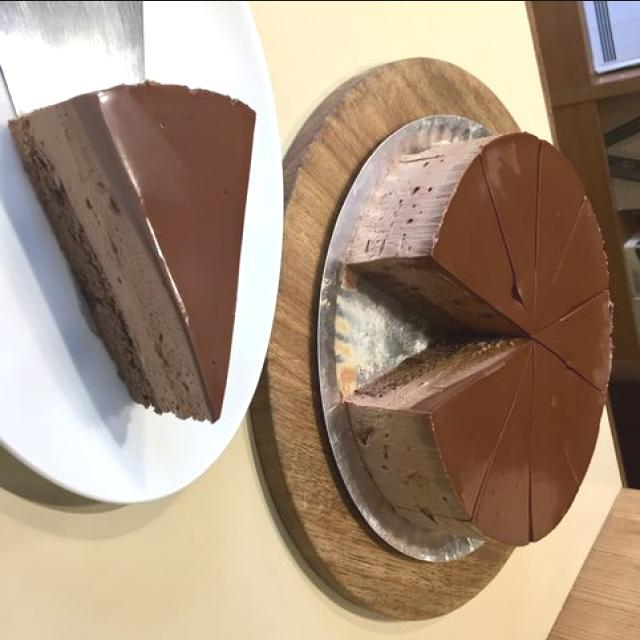puding: (7, 77, 256, 421)
